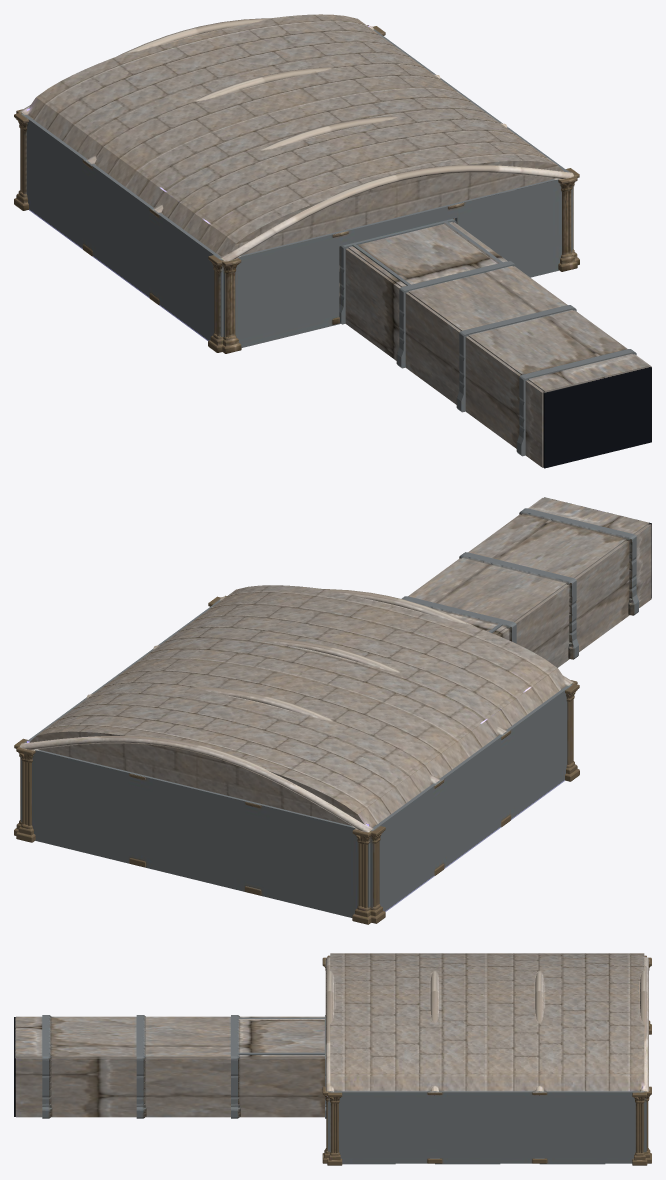
The model's file is room.glb.
3 views of the same model, one above another, from view 1: azimuth 30°, elevation 25°; view 2: azimuth 150°, elevation 25°; view 3: azimuth 270°, elevation 25° (orthographic). The views are drawn at different scales.
Visible parts, largest first — view 1: DEPOSITORY; view 2: DEPOSITORY; view 3: DEPOSITORY.
Boxes of the visible parts, x1,y1,x2,y2 form: DEPOSITORY: (14, 14, 651, 468); DEPOSITORY: (14, 497, 651, 924); DEPOSITORY: (14, 953, 651, 1165).
Size of the model in its own units: 16.77 by 5.99 by 32.48.
1 material, 1 textured.
